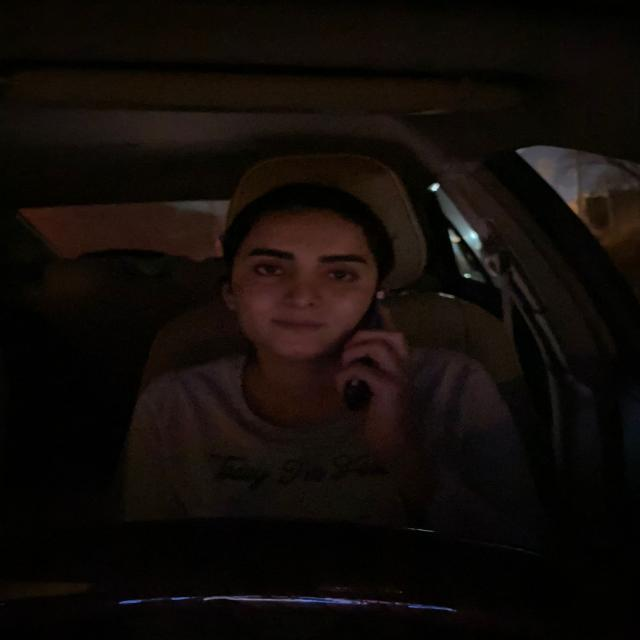mobile: (336, 307, 398, 415)
person: (221, 186, 385, 365)
